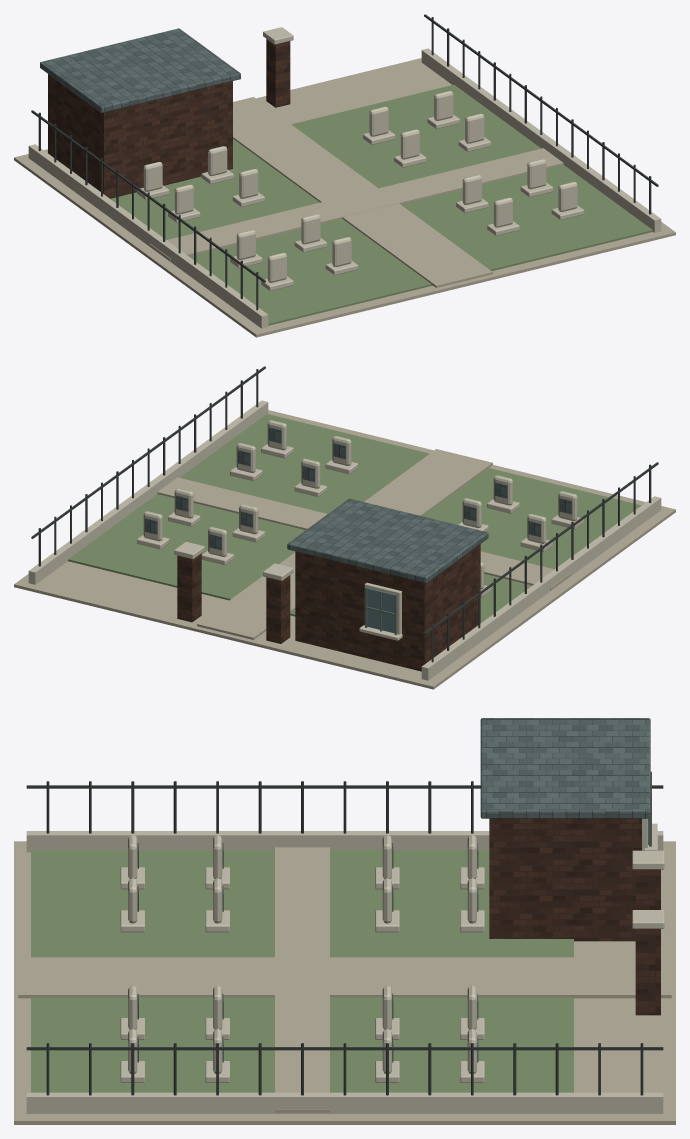
The model's file is cemetery.glb.
3 renders of one model, top to bottom at view 1: azimuth 30°, elevation 25°; view 2: azimuth 150°, elevation 25°; view 3: azimuth 270°, elevation 25°, orthographic. The views are drawn at different scales.
Visible parts, largest first — view 1: burial lawn, lot paving, grave stone plinth, caretaker lodge, inscribed stone face, iron boundary rail; view 2: burial lawn, lot paving, grave stone plinth, caretaker lodge, inscribed stone face, iron boundary rail, recessed glass; view 3: burial lawn, lot paving, grave stone plinth, caretaker lodge, inscribed stone face, iron boundary rail.
Boxes of the visible parts, x1=… form: burial lawn: x1=110, y1=84, x2=652, y2=325; lot paving: x1=14, y1=58, x2=675, y2=337; grave stone plinth: x1=28, y1=27, x2=661, y2=328; caretaker lodge: x1=48, y1=39, x2=290, y2=198; inscribed stone face: x1=40, y1=28, x2=240, y2=112; iron boundary rail: x1=31, y1=14, x2=658, y2=310; burial lawn: x1=68, y1=414, x2=641, y2=622; lot paving: x1=14, y1=410, x2=675, y2=689; grave stone plinth: x1=28, y1=400, x2=661, y2=680; caretaker lodge: x1=177, y1=544, x2=480, y2=671; inscribed stone face: x1=145, y1=427, x2=571, y2=583; iron boundary rail: x1=31, y1=366, x2=658, y2=662; recessed glass: x1=367, y1=588, x2=394, y2=633; burial lawn: x1=31, y1=850, x2=573, y2=1092; lot paving: x1=14, y1=841, x2=675, y2=1124; grave stone plinth: x1=26, y1=818, x2=664, y2=1113; caretaker lodge: x1=489, y1=818, x2=660, y2=1015; inscribed stone face: x1=137, y1=718, x2=650, y2=1062; iron boundary rail: x1=26, y1=781, x2=663, y2=1095.
Size of the model in its own units: 15.6 by 3.6 by 15.6.
Materials: 8 (2 with a texture image).
